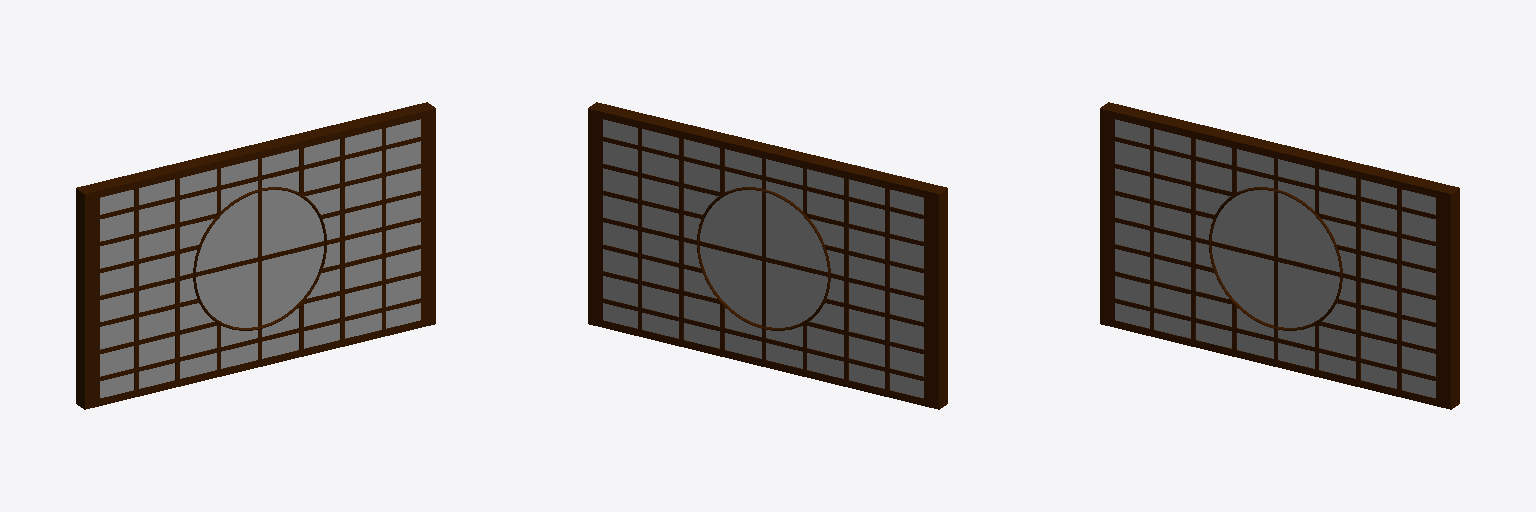
File: window.obj
The picture shows the model from 3 angles: view 1: azimuth 30°, elevation 25°; view 2: azimuth 150°, elevation 25°; view 3: azimuth 330°, elevation 25°; orthographic projection.
Parts seen in each view (by area): view 1: Cube.001; view 2: Cube.001; view 3: Cube.001.
Boxes of the visible parts, <box> form: Cube.001: <box>76,102,435,409</box>; Cube.001: <box>588,102,947,409</box>; Cube.001: <box>1100,102,1459,409</box>.
Bounding box in the file's own units: 10.24 × 6 × 0.5302.